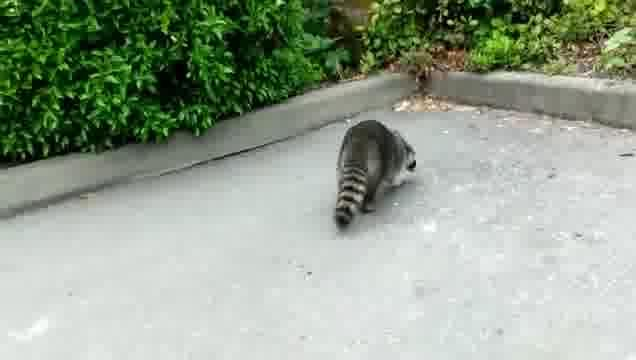raccoon: (335, 121, 419, 227)
